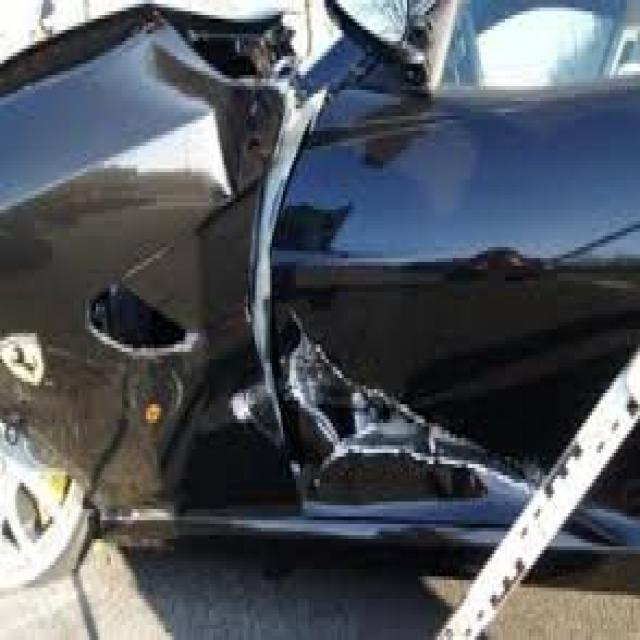moderate: (0, 0, 520, 600)
